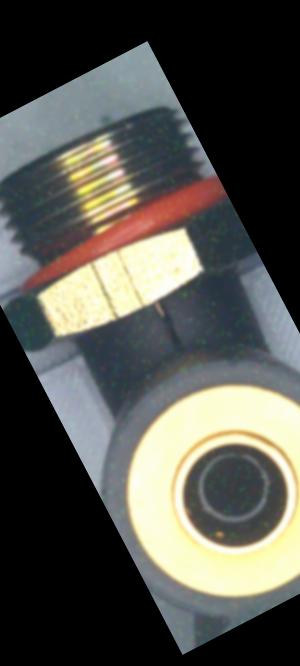craze: (147, 296, 189, 357)
